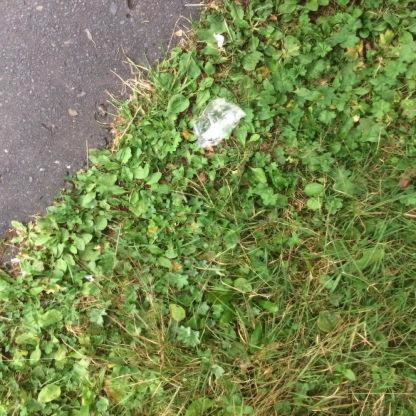Plastic bag - wrapper: (193, 98, 247, 149)
